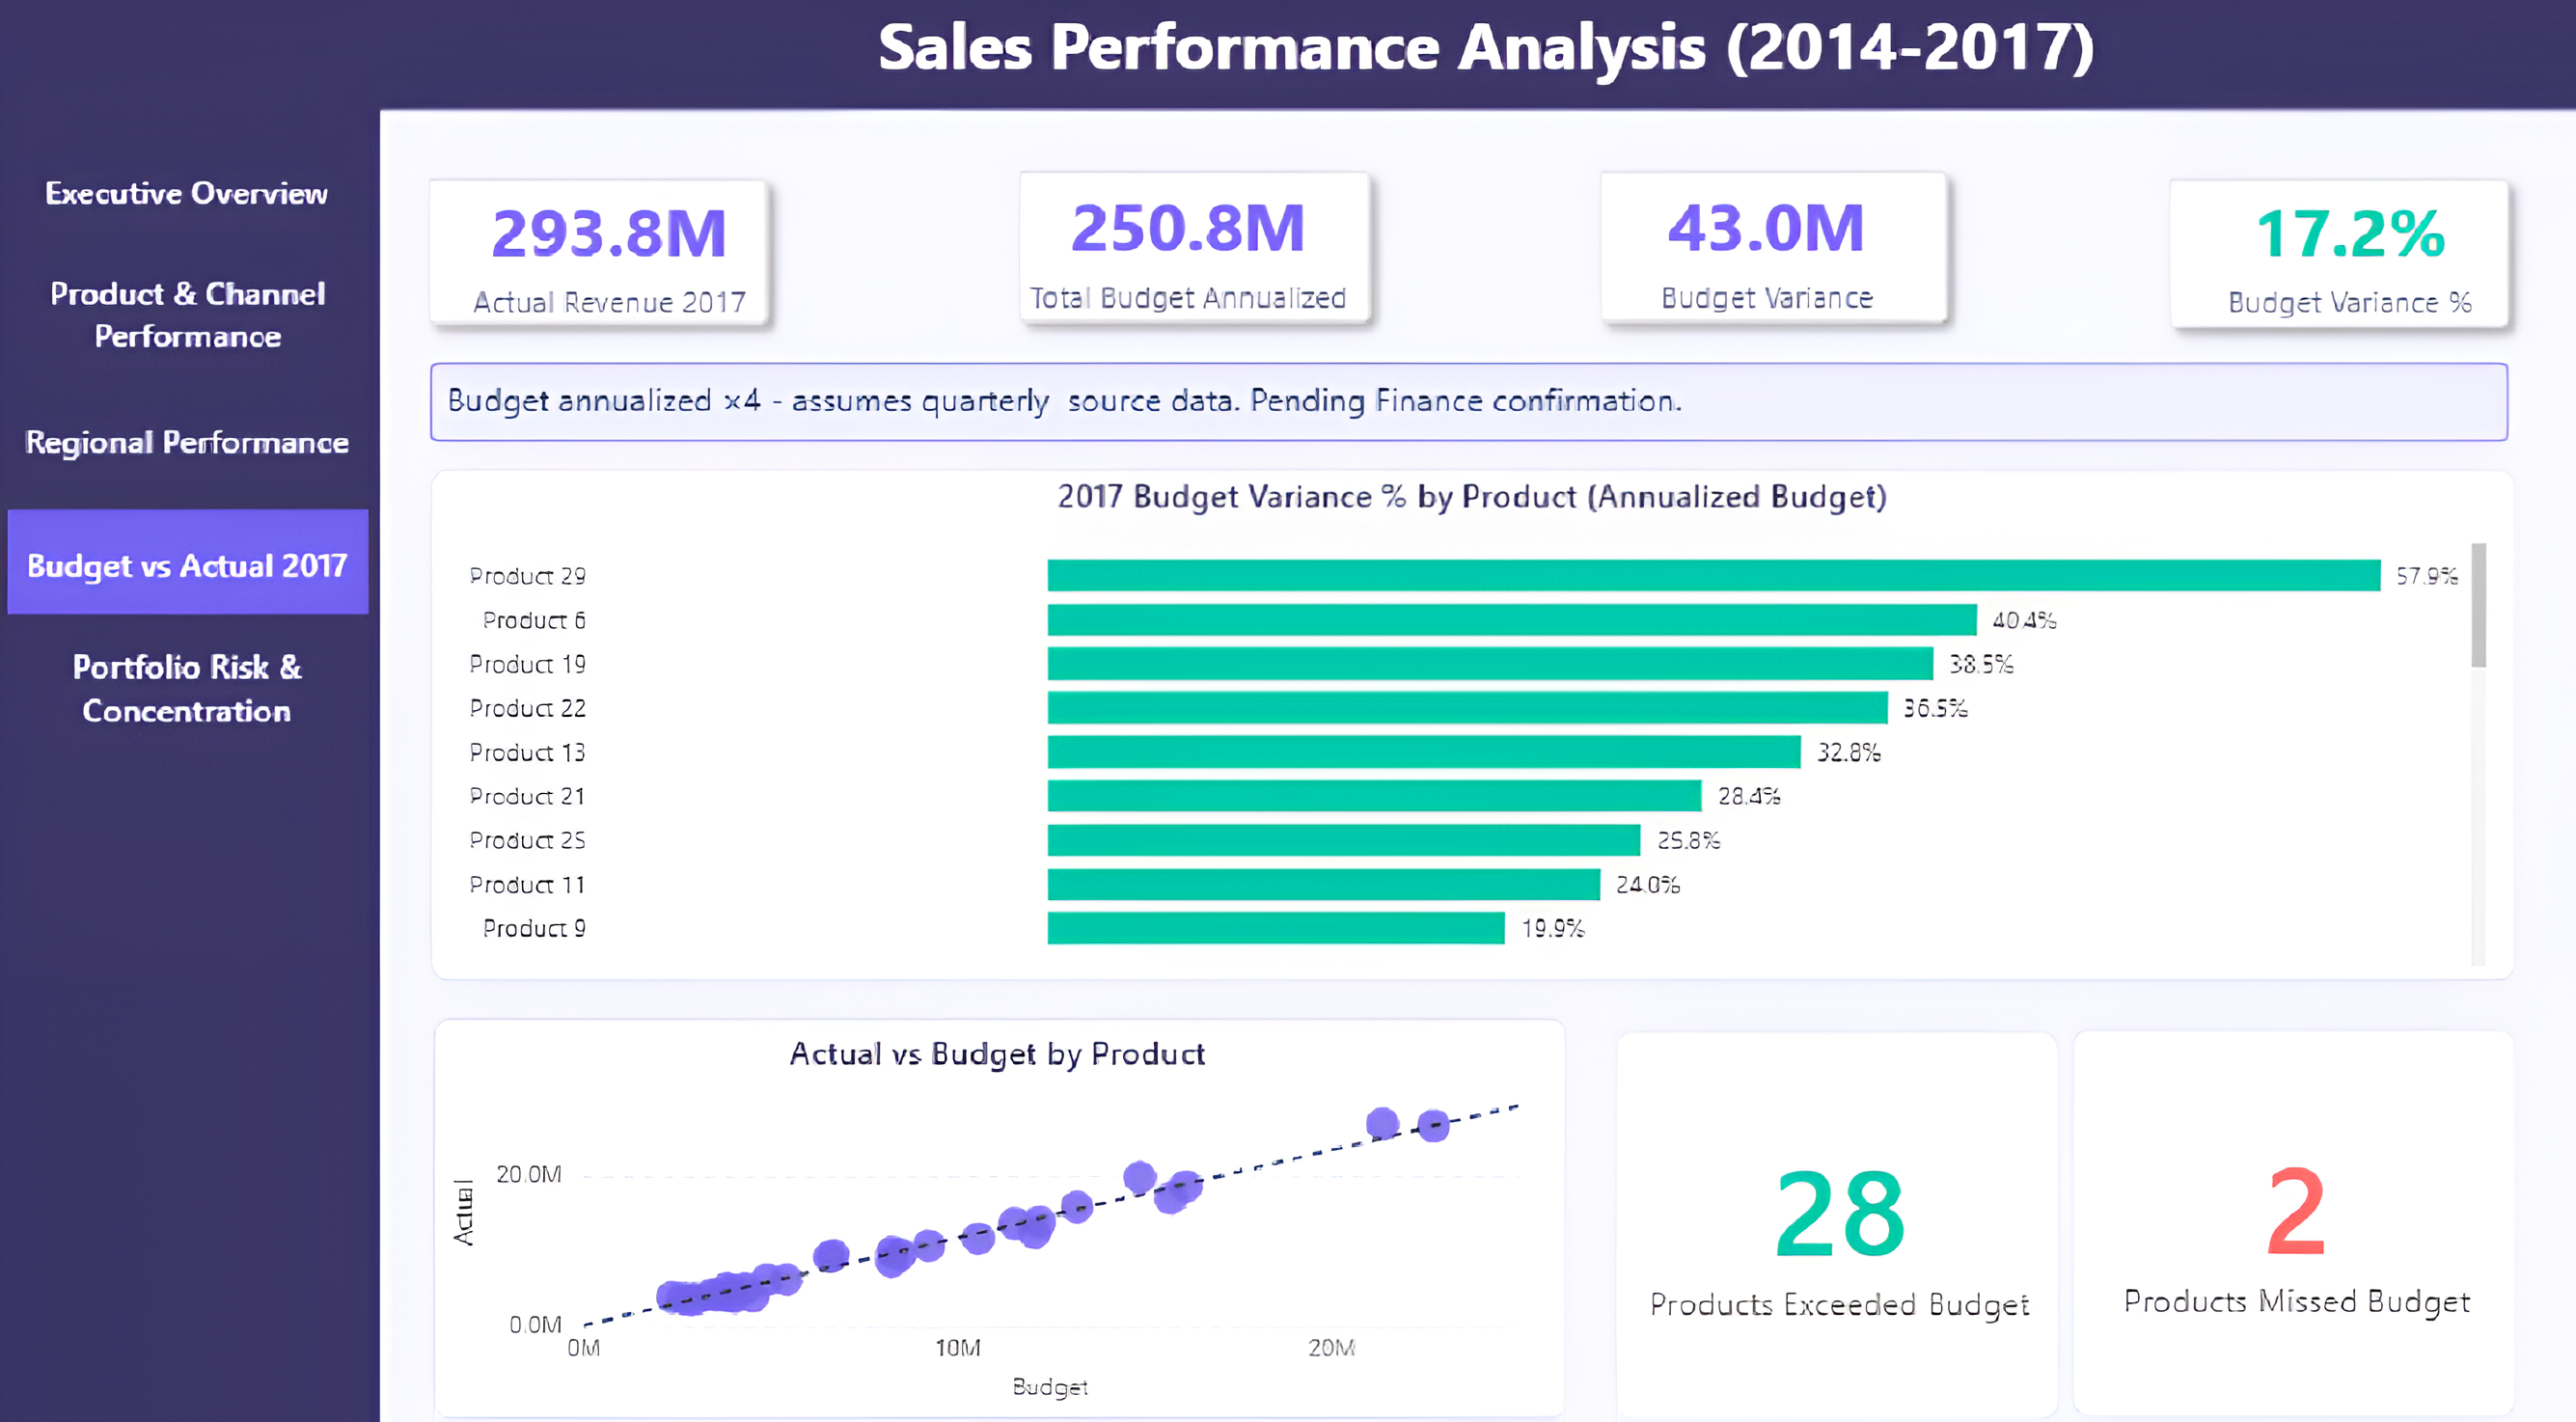

What the dashboard file says about the page in this screenshot:
{"tool":"powerbi","page":{"name":"Budget vs Actual 2017 ","canvas":[1280,720],"ordinal":3},"visuals":[{"type":"shape","box":[800,518.4,220,194.1],"z":0},{"type":"shape","box":[0,0,1280,60],"z":1000},{"type":"shape","box":[496.6,81.7,191.7,93.4],"z":1002,"group":"g2"},{"type":"shape","box":[782.9,81.7,190.1,93.4],"z":1002,"group":"g3"},{"type":"shape","box":[204.7,85,186,90.6],"z":1002,"group":"g1"},{"type":"shape","box":[1064.3,85.1,186,92.2],"z":1002,"group":"g4"},{"type":"card","fields":{"Values":["_measures.Actual Revenue 2017"]},"box":[205.4,82.3,195,95],"z":1502,"group":"g1"},{"type":"card","fields":{"Values":["_measures.Total Budget Annualized"]},"box":[491.7,82.3,196.7,93.4],"z":1502,"group":"g2"},{"type":"card","fields":{"Values":["_measures.Budget Variance"]},"box":[778,82.3,195,93.4],"z":1502,"group":"g3"},{"type":"card","fields":{"Values":["_measures.Budget Variance %"]},"box":[1065,82.3,195,95],"z":1502,"group":"g4"},{"type":"textbox","box":[424.3,0,625.7,58.6],"z":2000},{"type":"group","id":"g1","title":"Group 1","box":[204.7,82.3,195.7,95],"z":3000},{"type":"group","id":"g2","title":"Group 1","box":[491.7,81.7,195,95],"z":4000},{"type":"shape","box":[0,59.4,191,659.4],"z":5000},{"type":"pageNavigator","box":[7.1,74.1,178.8,304.7],"z":6000},{"type":"shape","box":[215.7,238.3,1030,255.7],"z":7000},{"type":"clusteredBarChart","title":"2017 Budget Variance % by Product          (Annualized Budget)","fields":{"Category":["dim_products.product"],"Y":["_measures.Budget Variance %"]},"box":[224.4,240.7,1011.1,250],"z":8000},{"type":"group","id":"g3","title":"Group 1","box":[778,81.7,195,95],"z":9000},{"type":"group","id":"g4","title":"Group 1","box":[1064.3,82.3,195.7,95],"z":10000},{"type":"shape","box":[216.7,512.7,560,200],"z":11000},{"type":"scatterChart","title":"Actual vs Budget by Product","fields":{"X":["_measures.Total Budget Annualized"],"Category":["dim_products.product"],"Y":["_measures.Actual Revenue 2017"]},"box":[222.2,518.2,547.8,190],"z":12000},{"type":"card","fields":{"Values":["_measures.Products Above Budget"]},"box":[805.9,525.4,209.4,181],"z":13000},{"type":"shape","box":[1025.9,517.2,220,194.1],"z":14000},{"type":"card","fields":{"Values":["_measures.Products Below Budget"]},"box":[1031.8,524.2,209.4,181],"z":15000},{"type":"textbox","box":[216,186,1026,40],"z":16000}]}

Visuals, with their boxes in screenshot pixels (x1, y1, x2, y2), scaled from the page's 1280x720 canvas onto the 2576x1422 screenshot:
shape: bbox=[1610, 1024, 2053, 1408]
shape: bbox=[0, 0, 2575, 119]
shape: bbox=[1000, 161, 1385, 345]
shape: bbox=[1576, 161, 1959, 345]
shape: bbox=[412, 168, 786, 346]
shape: bbox=[2142, 168, 2516, 350]
card - _measures.Actual Revenue 2017: bbox=[413, 162, 806, 350]
card - _measures.Total Budget Annualized: bbox=[990, 162, 1385, 347]
card - _measures.Budget Variance: bbox=[1566, 162, 1959, 347]
card - _measures.Budget Variance %: bbox=[2144, 162, 2535, 350]
textbox: bbox=[854, 0, 2113, 116]
"Group 1" group: bbox=[412, 162, 806, 350]
"Group 1" group: bbox=[990, 161, 1382, 349]
shape: bbox=[0, 118, 384, 1420]
pageNavigator: bbox=[14, 147, 374, 748]
shape: bbox=[434, 471, 2507, 975]
"2017 Budget Variance % by Product          (Annualized Budget)" clusteredBarChart: bbox=[452, 476, 2486, 970]
"Group 1" group: bbox=[1566, 161, 1959, 349]
"Group 1" group: bbox=[2142, 162, 2535, 350]
shape: bbox=[436, 1013, 1563, 1408]
"Actual vs Budget by Product" scatterChart: bbox=[447, 1024, 1549, 1399]
card - _measures.Products Above Budget: bbox=[1622, 1038, 2043, 1395]
shape: bbox=[2065, 1022, 2507, 1405]
card - _measures.Products Below Budget: bbox=[2076, 1035, 2498, 1393]
textbox: bbox=[435, 368, 2500, 447]
